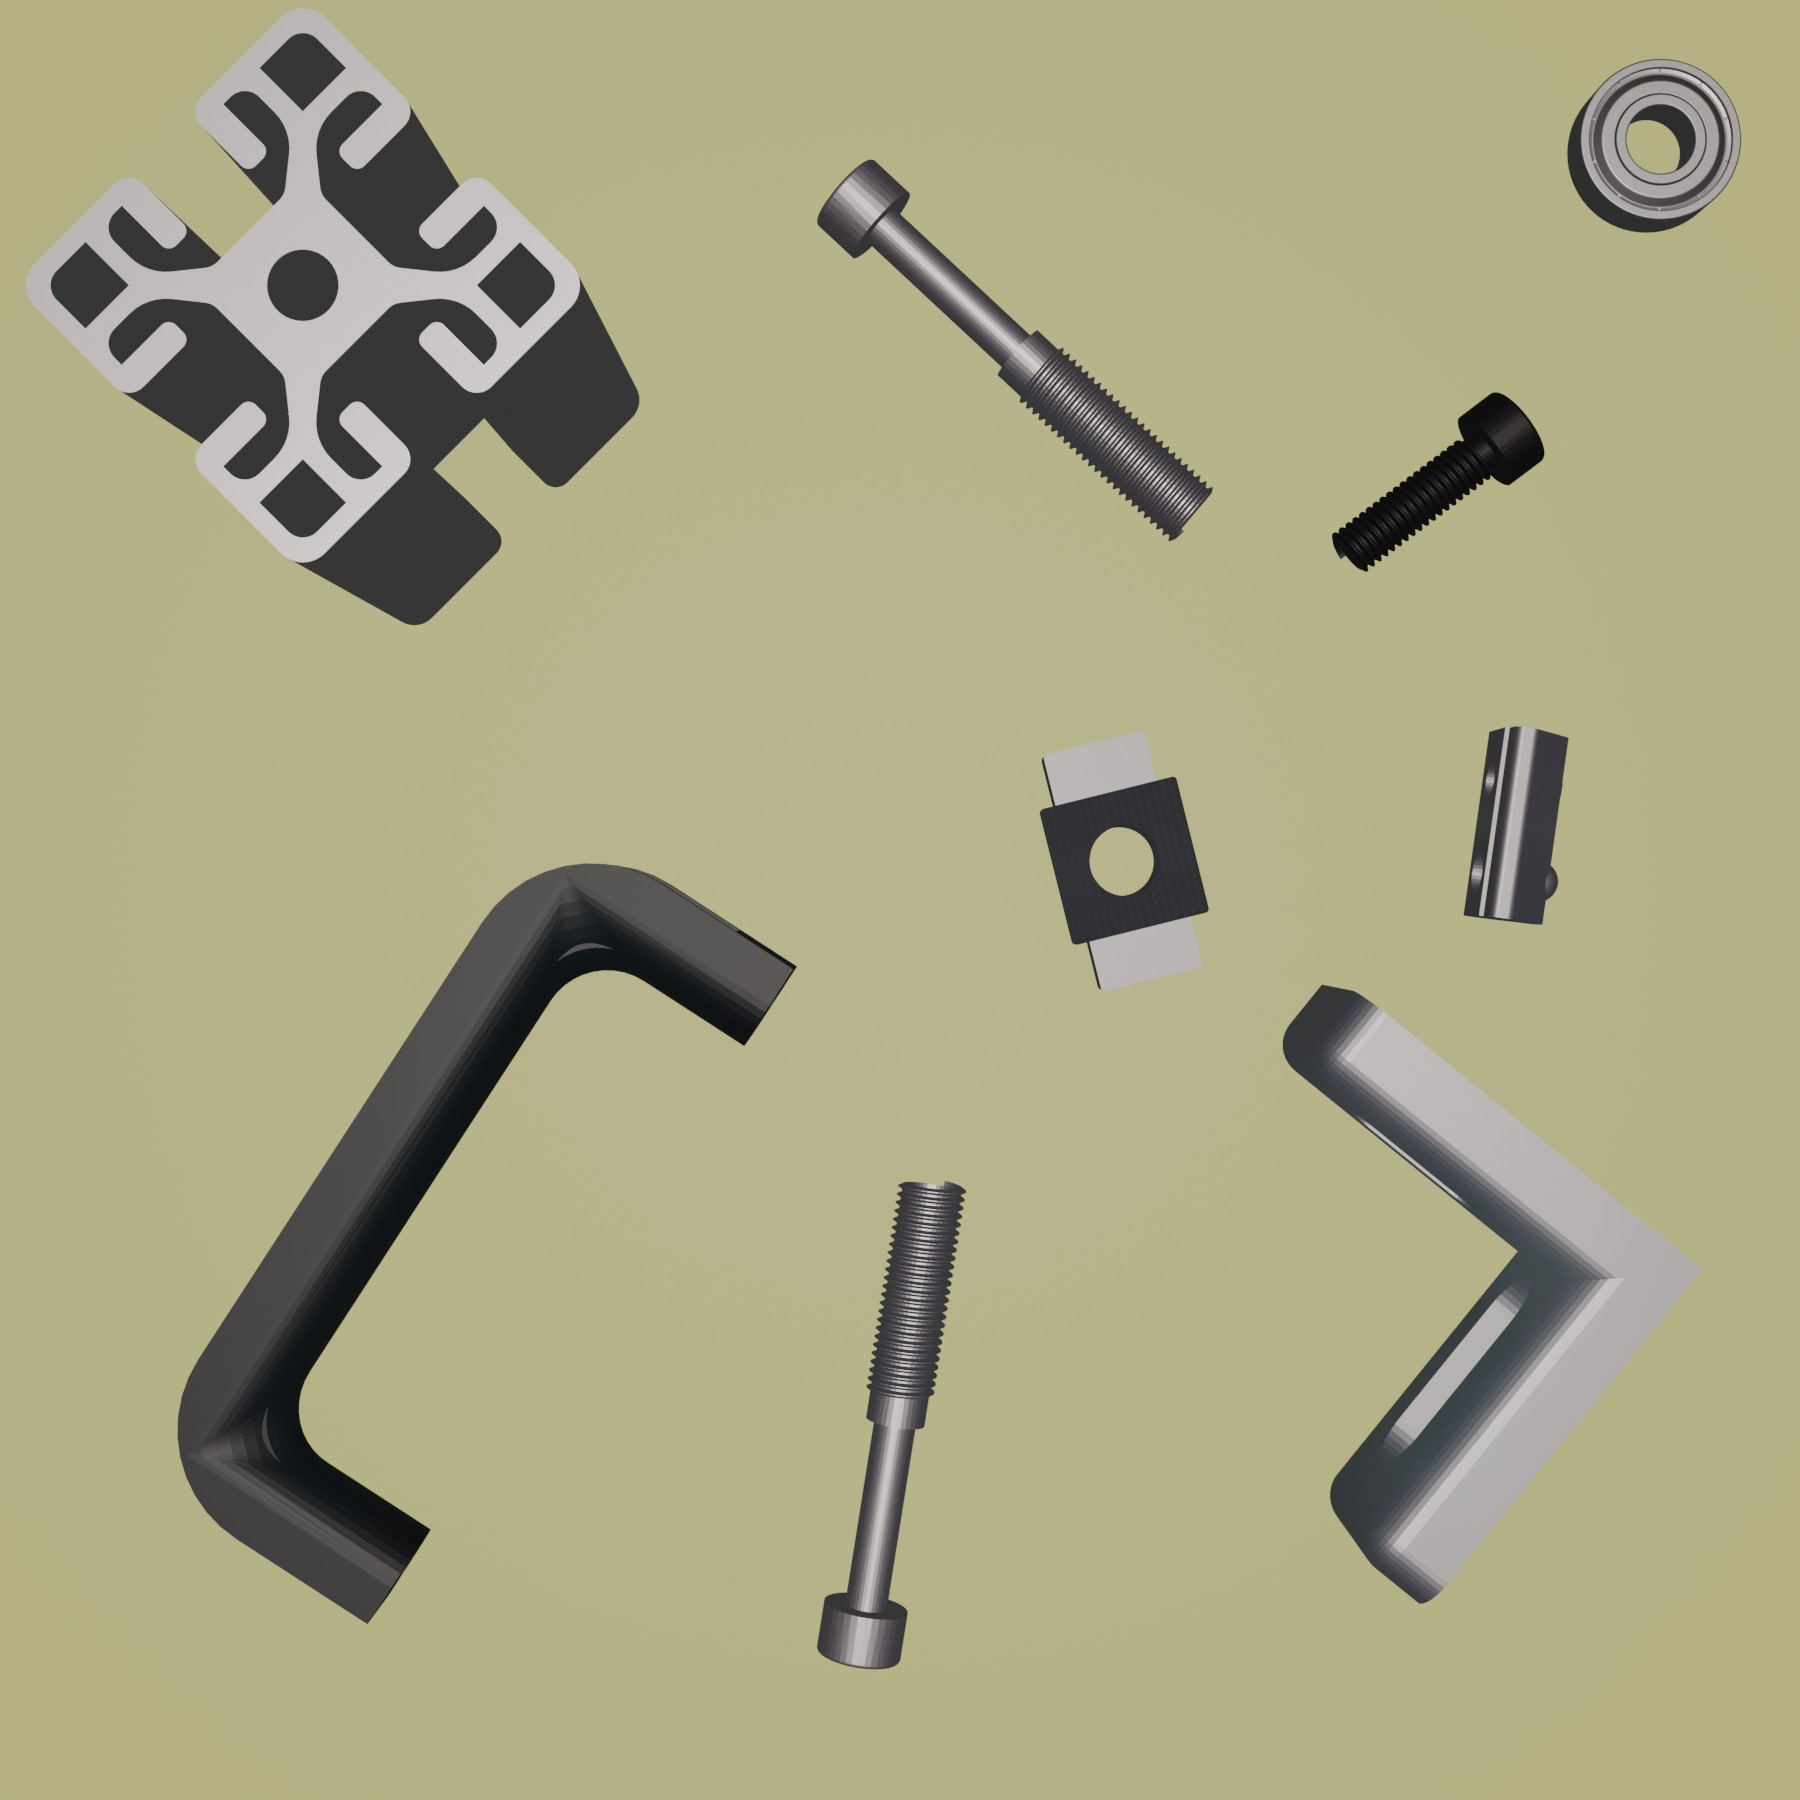Aluminium Extension: (21, 5, 643, 626)
Ball Bearing: (1563, 54, 1744, 234)
Multiwinkel: (1277, 981, 1701, 1609)
Pull Handle: (175, 859, 798, 1629)
Shoulder Socket Head Cap Screw: (816, 155, 1216, 546), (813, 1174, 973, 1673)
Socket Head Cap Screw: (1329, 389, 1548, 575)
T Nut Square: (1034, 729, 1213, 996)
T Spring Nut: (1459, 722, 1576, 926)
